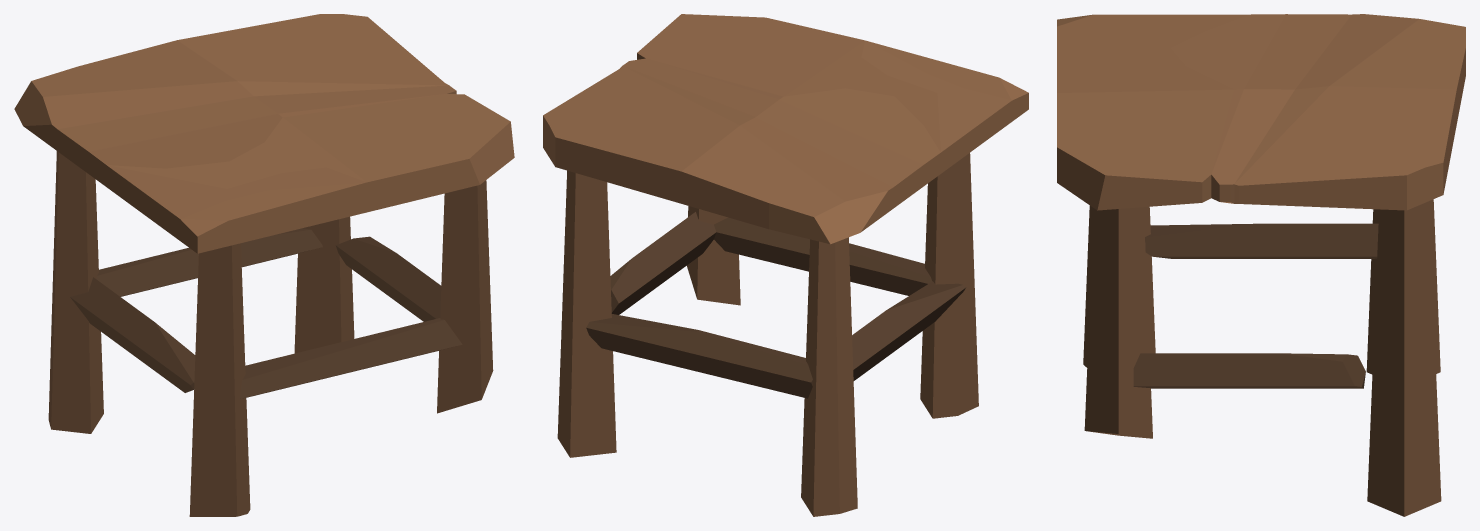
The model's file is Chair_1.fbx.
The picture shows the model from 3 angles, left to right: view 1: azimuth 30°, elevation 25°; view 2: azimuth 150°, elevation 25°; view 3: azimuth 270°, elevation 25°; orthographic projection. The views are drawn at different scales.
Visible parts, largest first — view 1: Cube.200; view 2: Cube.200; view 3: Cube.200.
Boxes of the visible parts, box(x1,y1,x2,y2) form: Cube.200: box(14, 14, 514, 516); Cube.200: box(543, 14, 1028, 516); Cube.200: box(1057, 14, 1465, 516).
Size of the model in its own units: 190 by 180 by 190.
